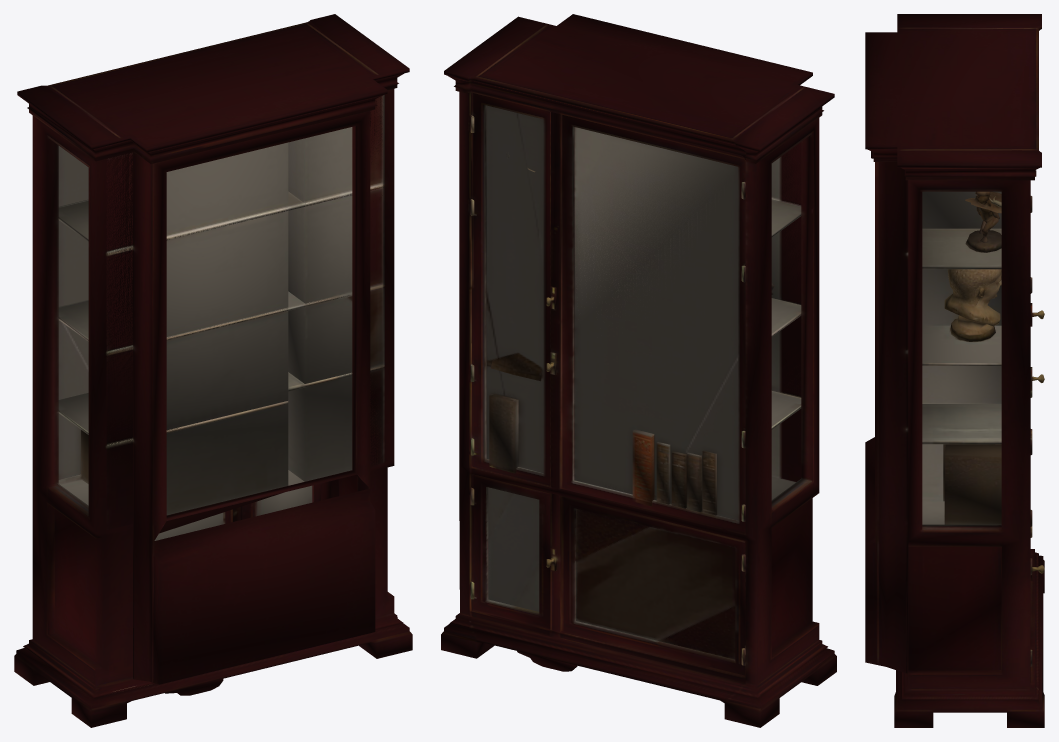
Rendered from furniture-display-cabinet.glb.
3 renders of one model, left to right at view 1: azimuth 30°, elevation 25°; view 2: azimuth 150°, elevation 25°; view 3: azimuth 270°, elevation 25°, orthographic. The views are drawn at different scales.
Parts seen in each view (by area): view 1: tripo_node_9a6baf5d-62c6-4e2d-9f86-390dbe20a438; view 2: tripo_node_9a6baf5d-62c6-4e2d-9f86-390dbe20a438; view 3: tripo_node_9a6baf5d-62c6-4e2d-9f86-390dbe20a438.
Boxes of the visible parts, left/top/right/bottom form: tripo_node_9a6baf5d-62c6-4e2d-9f86-390dbe20a438: left=14, top=14, right=412, bottom=727; tripo_node_9a6baf5d-62c6-4e2d-9f86-390dbe20a438: left=441, top=14, right=836, bottom=727; tripo_node_9a6baf5d-62c6-4e2d-9f86-390dbe20a438: left=865, top=14, right=1044, bottom=727.
Bounding box in the file's own units: 1.3 × 2.25 × 0.65.
Materials: 1 (1 with a texture image).
